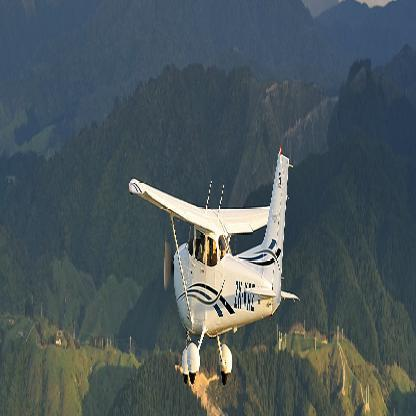CIV_Plane: (126, 142, 298, 398)
